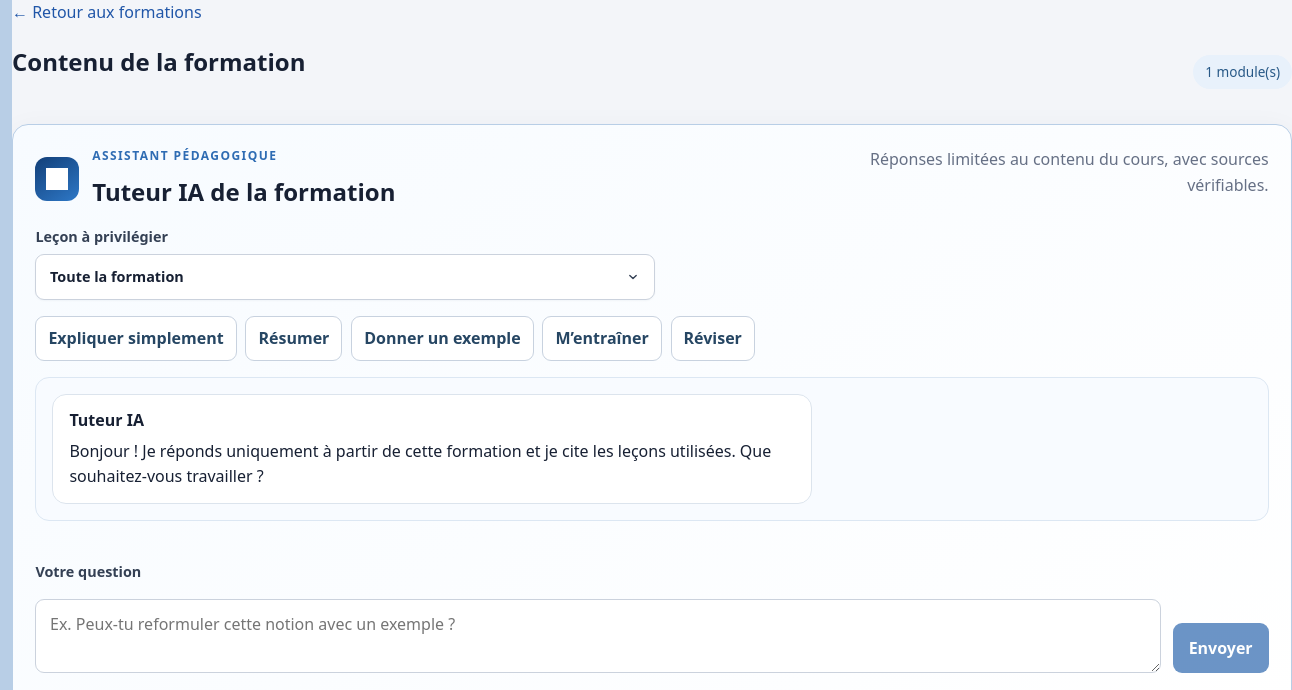
Scenario: Phase 3 authorized content UI › lets an enrolled learner ask the grounded tutor and open its Lesson citation
Click the button "Expliquer simplement" at [136, 338], box [35,316,237,361]
(page scrolled)
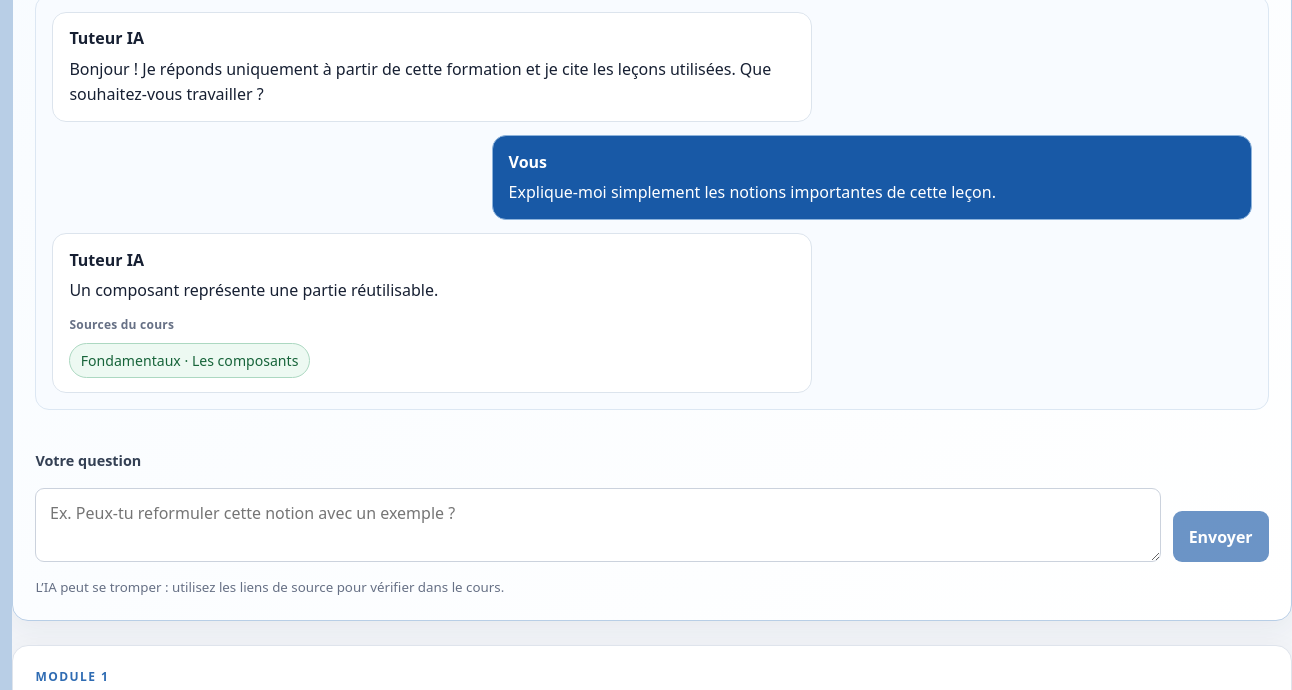
Now the text "Un composant représente une partie réutilisable." is shown, box [69,279,438,301]
